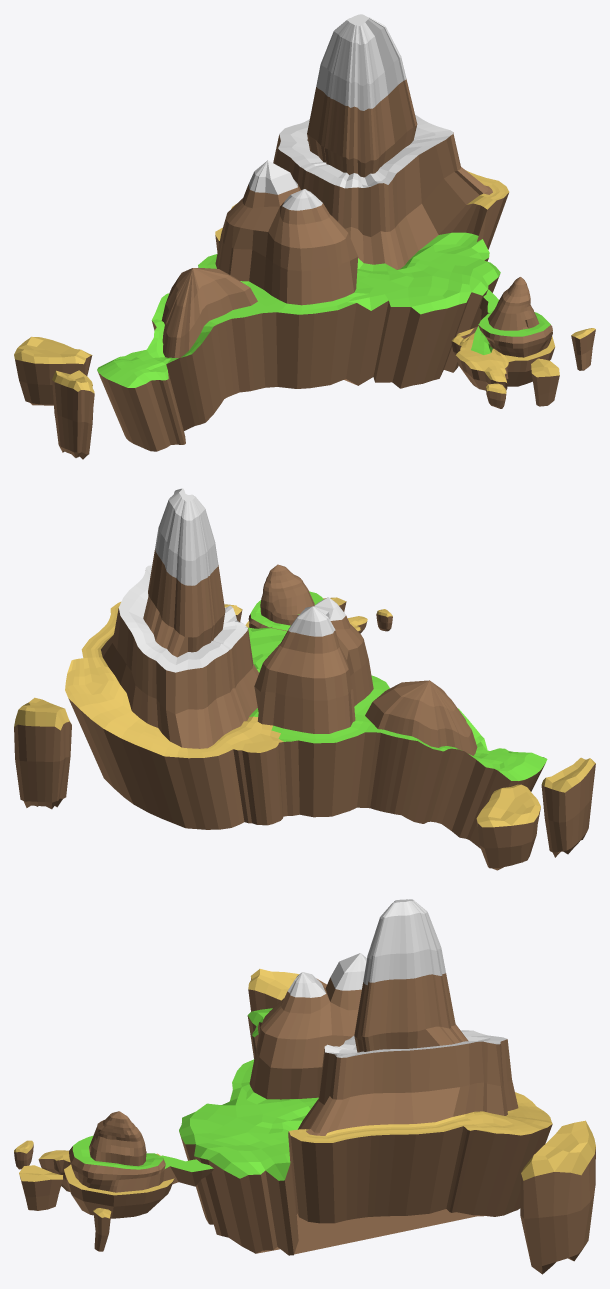
The model's file is IslandOverview.glb.
3 views of the same model, one above another, from view 1: azimuth 30°, elevation 25°; view 2: azimuth 150°, elevation 25°; view 3: azimuth 270°, elevation 25° (orthographic). The views are drawn at different scales.
Visible parts, largest first — view 1: Plane-col, Start Island-col, Small Island 1.002-col, Small Island 1.001-col, Small Island 2-col, Small Island 3-col; view 2: Plane-col, Small Island 1.003-col, Small Island 1.002-col, Small Island 1.001-col, Start Island-col; view 3: Plane-col, Small Island 1.003-col, Start Island-col, Small Island 2-col, Small Island 1.001-col, Ledge-col, Small Island 3-col.
Part boxes in pixels (left/top/right/bottom): Plane-col: left=97, top=14, right=509, bottom=451; Start Island-col: left=451, top=277, right=555, bottom=390; Small Island 1.002-col: left=14, top=336, right=92, bottom=405; Small Island 1.001-col: left=52, top=370, right=94, bottom=459; Small Island 2-col: left=531, top=358, right=559, bottom=406; Small Island 3-col: left=571, top=328, right=595, bottom=370; Plane-col: left=65, top=488, right=547, bottom=848; Small Island 1.003-col: left=14, top=697, right=71, bottom=809; Small Island 1.002-col: left=476, top=784, right=540, bottom=870; Small Island 1.001-col: left=541, top=757, right=595, bottom=857; Start Island-col: left=245, top=564, right=367, bottom=633; Plane-col: left=179, top=899, right=552, bottom=1255; Small Island 1.003-col: left=520, top=1120, right=595, bottom=1274; Start Island-col: left=38, top=1111, right=174, bottom=1218; Small Island 2-col: left=19, top=1165, right=63, bottom=1210; Small Island 1.001-col: left=248, top=969, right=298, bottom=1011; Ledge-col: left=158, top=1155, right=213, bottom=1186; Small Island 3-col: left=93, top=1208, right=111, bottom=1251.
Size of the model in its own units: 451 by 305 by 444.
